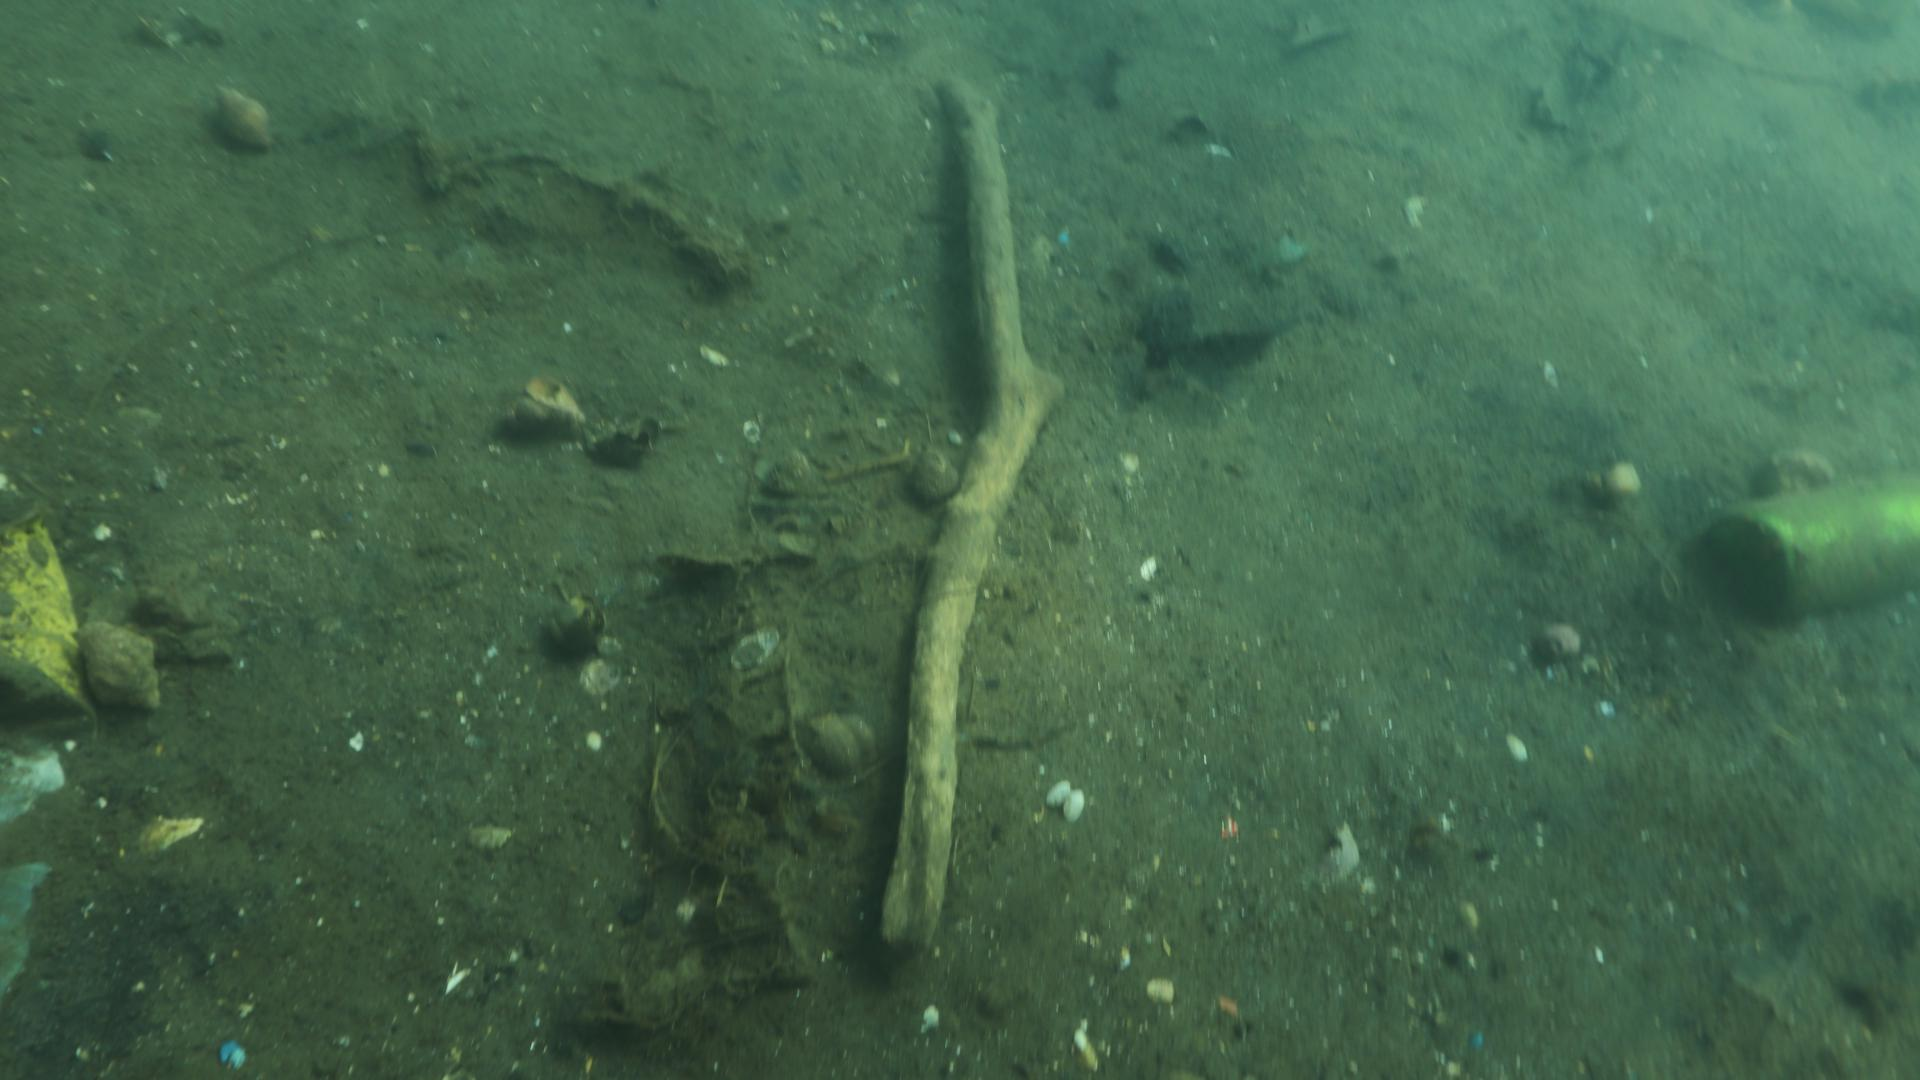wood: (876, 73, 1063, 961)
